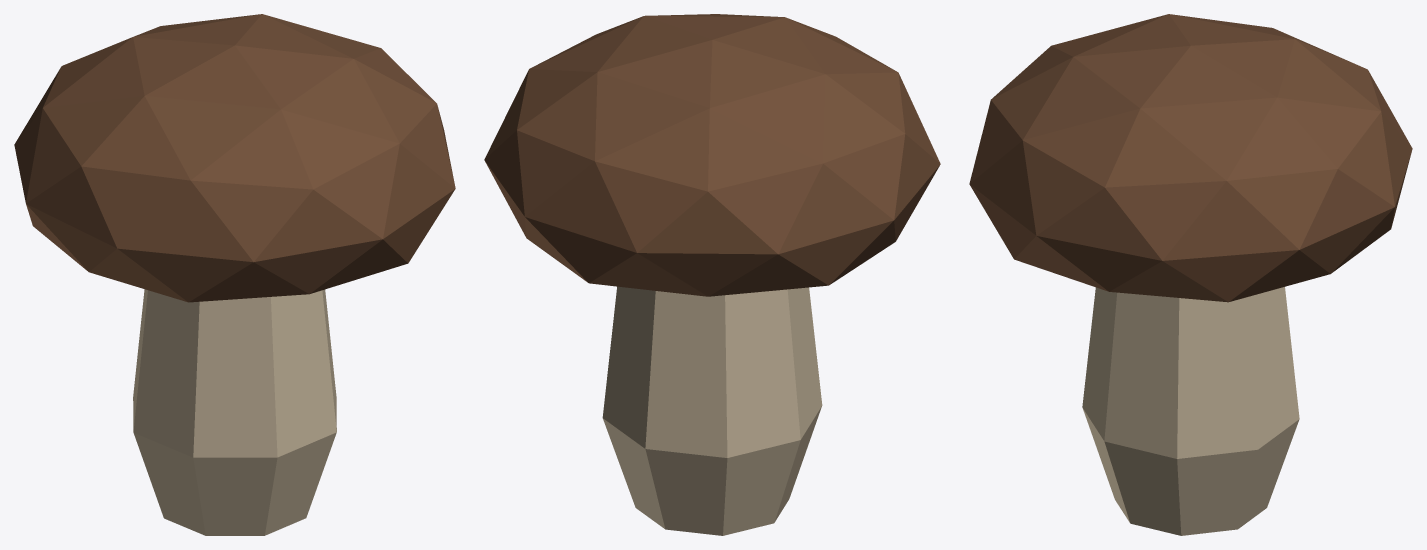
Rendered from mushroom_02.glb.
3 views of the same model, side by side, from view 1: azimuth 30°, elevation 25°; view 2: azimuth 150°, elevation 25°; view 3: azimuth 270°, elevation 25° (orthographic).
Parts seen in each view (by area): view 1: Object_118, Object_119; view 2: Object_118, Object_119; view 3: Object_118, Object_119.
Part boxes in pixels (bbox=[...]): Object_118: bbox=[14, 14, 455, 302]; Object_119: bbox=[133, 289, 336, 535]; Object_118: bbox=[484, 14, 940, 296]; Object_119: bbox=[602, 286, 822, 535]; Object_118: bbox=[969, 14, 1412, 302]; Object_119: bbox=[1082, 287, 1299, 535].
Bounding box in the file's own units: 0.5068 × 0.5724 × 0.5019.
